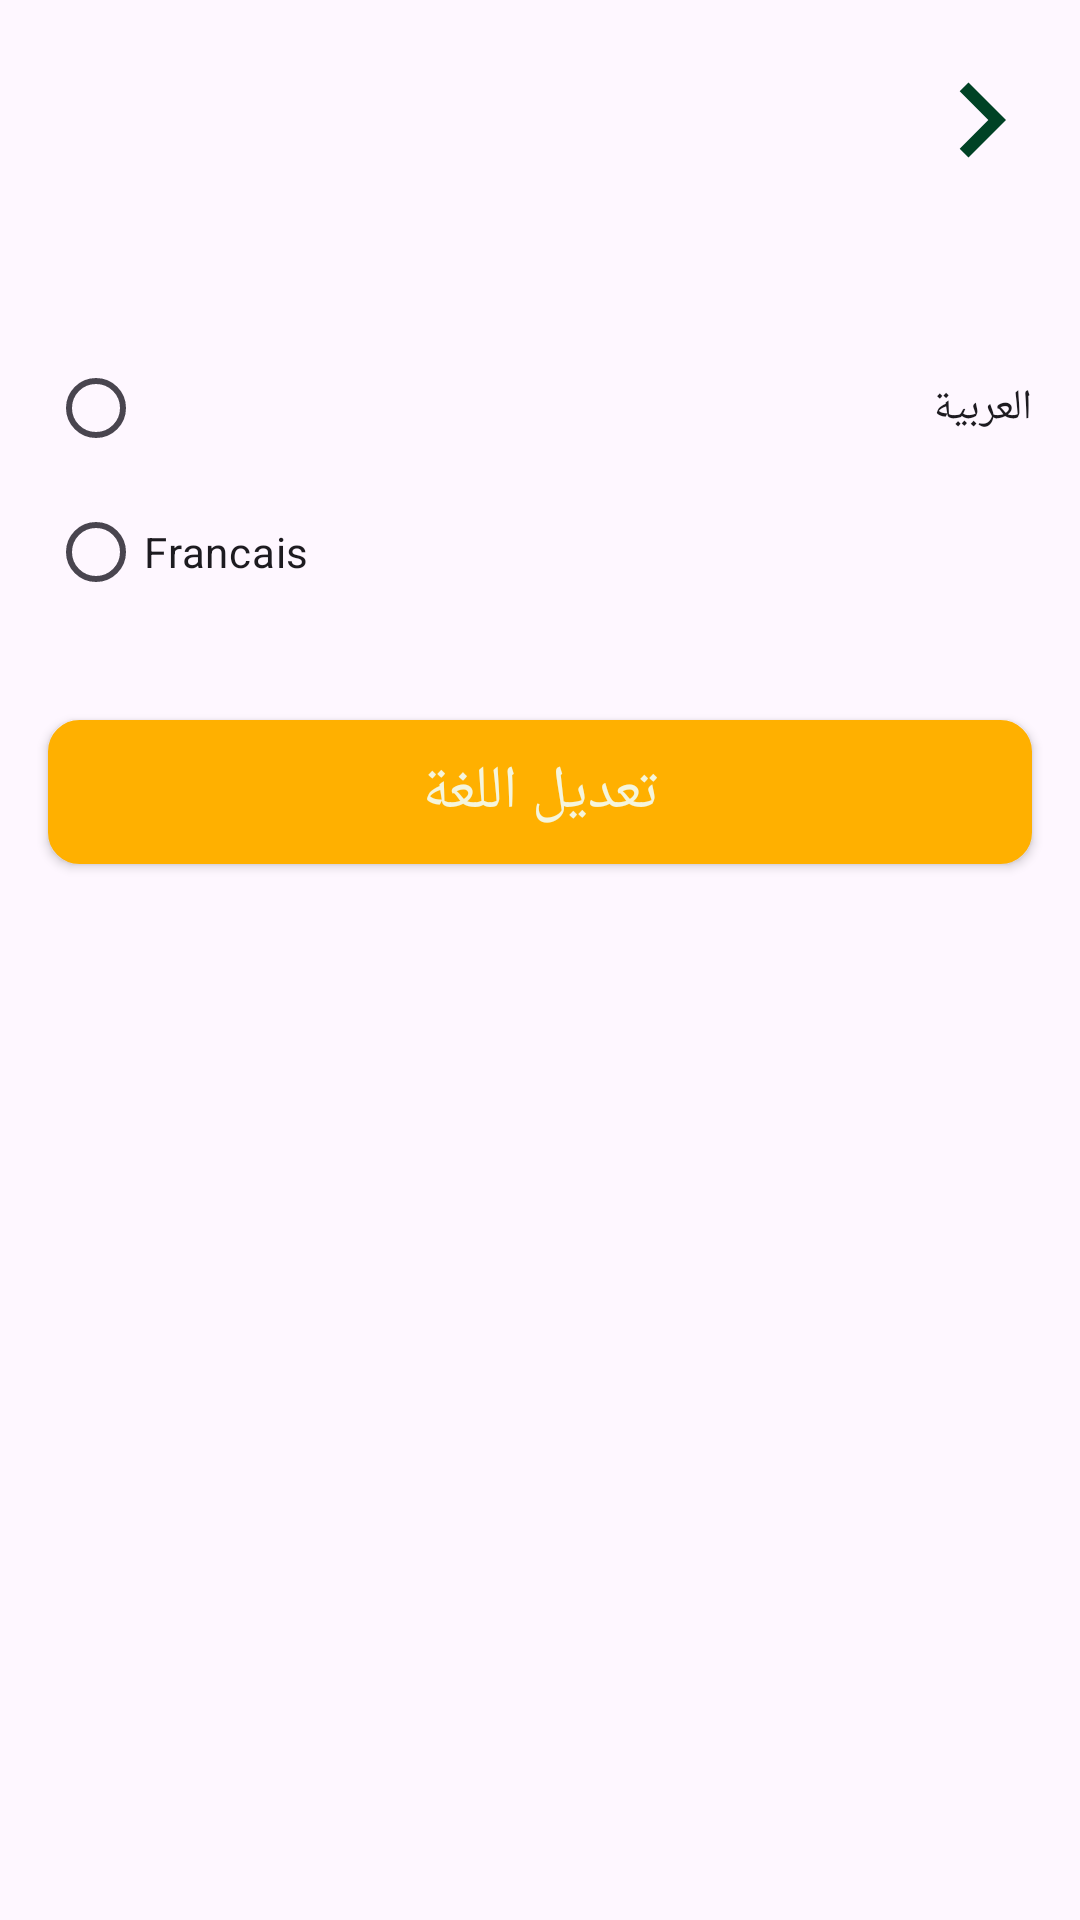

Icons on this 1080 × 1920 Android screen, each with its box as (x1, y1, x2, y2):
chevron right: (960, 82, 1006, 158)
